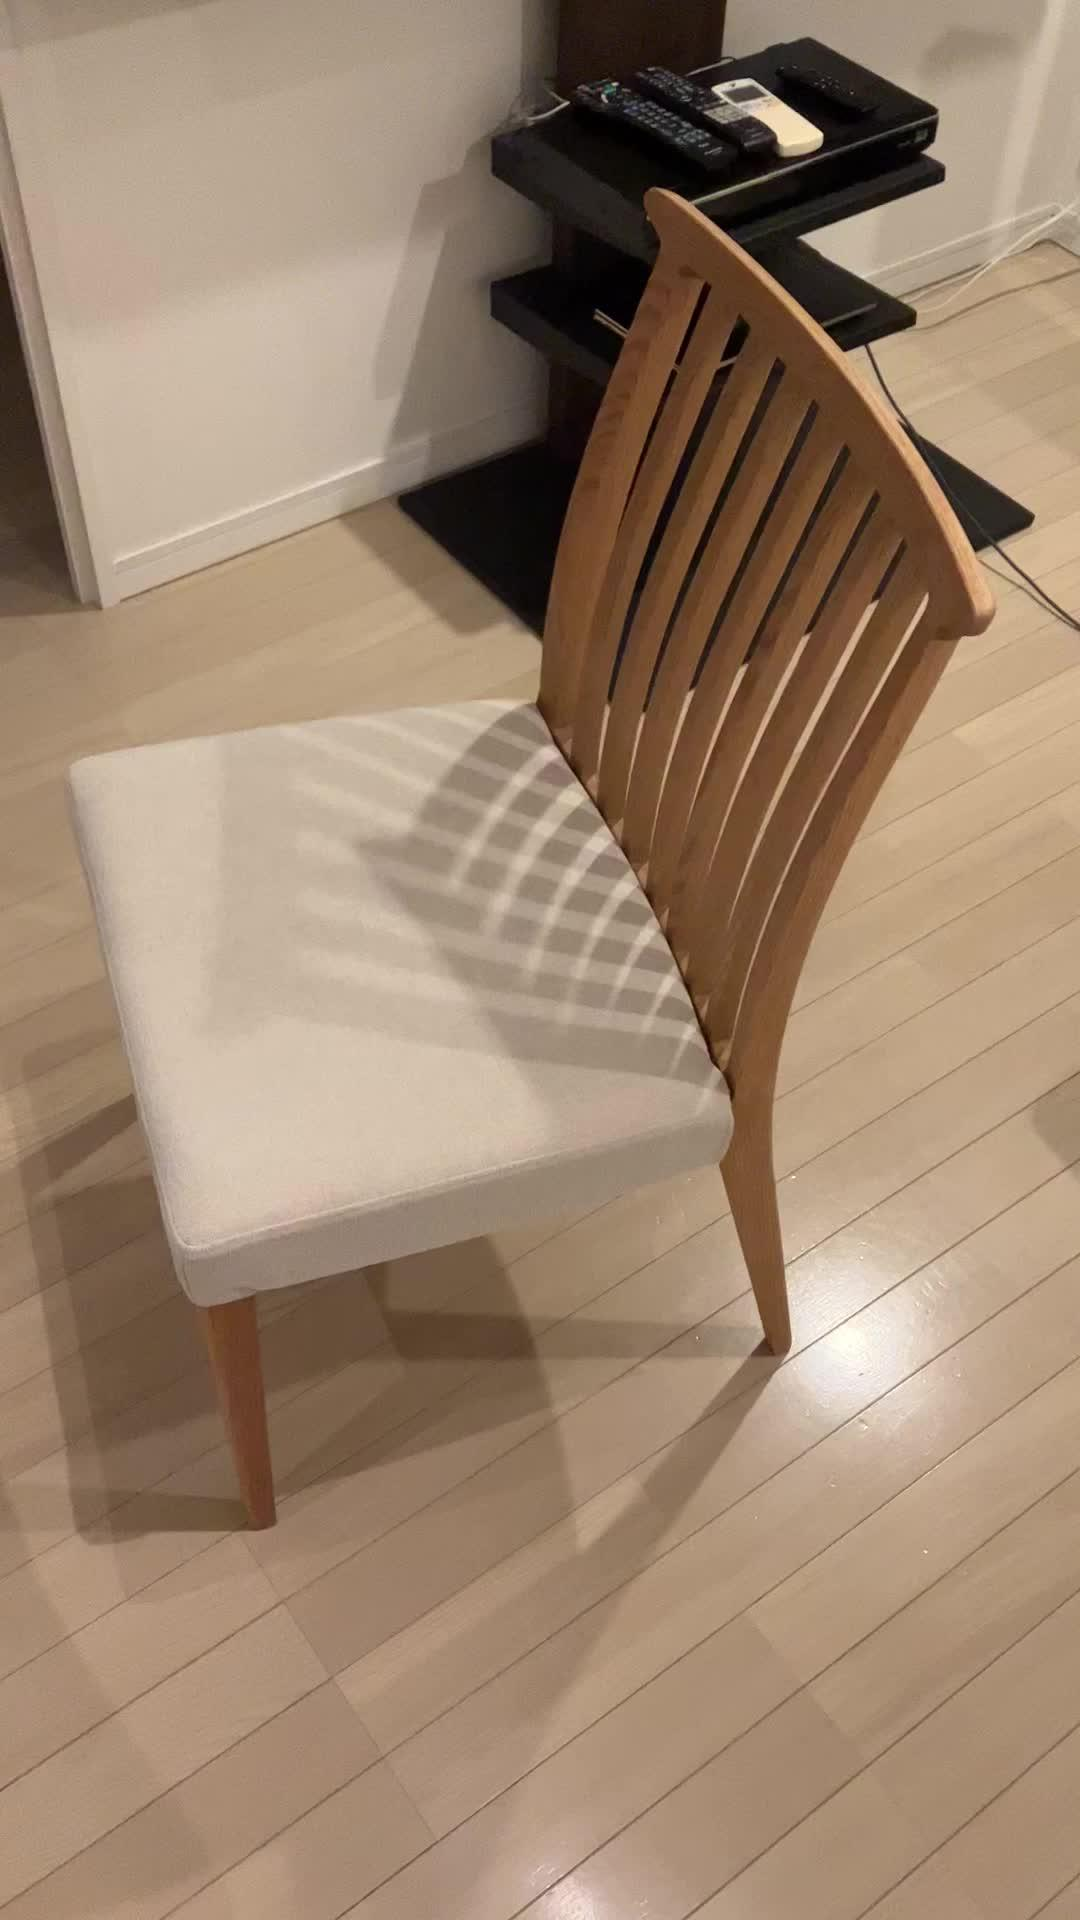takumikan-chair: (63, 182, 997, 1538)
